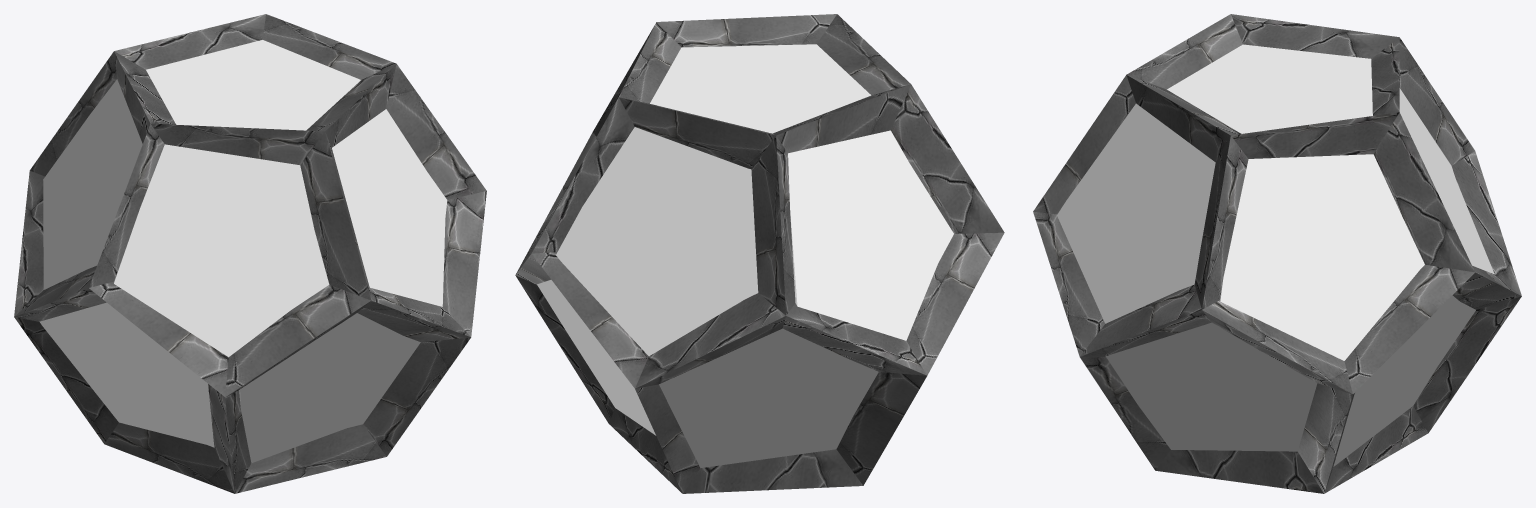
Rendered from effect.glb.
The picture shows the model from 3 angles, left to right: view 1: azimuth 30°, elevation 25°; view 2: azimuth 150°, elevation 25°; view 3: azimuth 270°, elevation 25°; orthographic projection. The views are drawn at different scales.
Parts seen in each view (by area): view 1: Object_2.004; view 2: Object_2.004; view 3: Object_2.004.
Part boxes in pixels (x1,y1,x2,y2): Object_2.004: (14, 14, 486, 493); Object_2.004: (515, 14, 1004, 493); Object_2.004: (1033, 14, 1521, 493).
Bounding box in the file's own units: 0.7244 × 0.6162 × 0.7616.
Materials: 2 (1 with a texture image).
